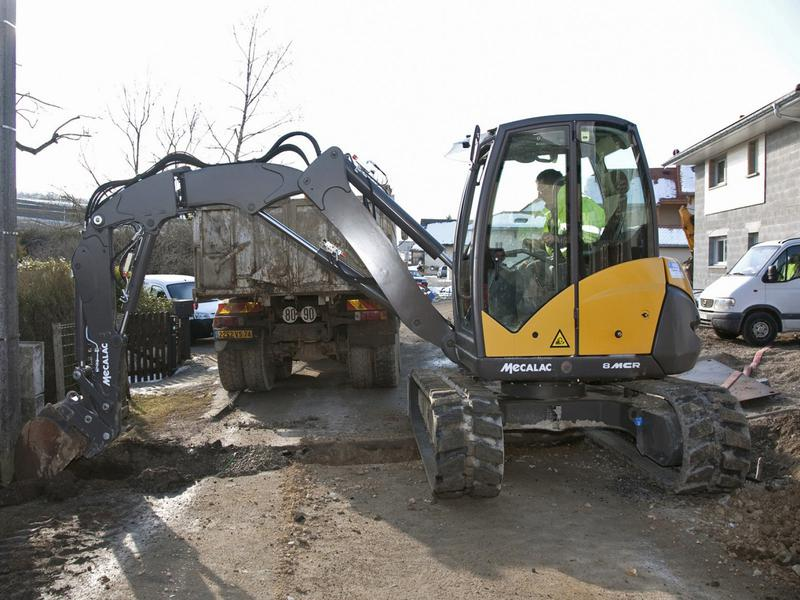shovel: (58, 106, 761, 511)
